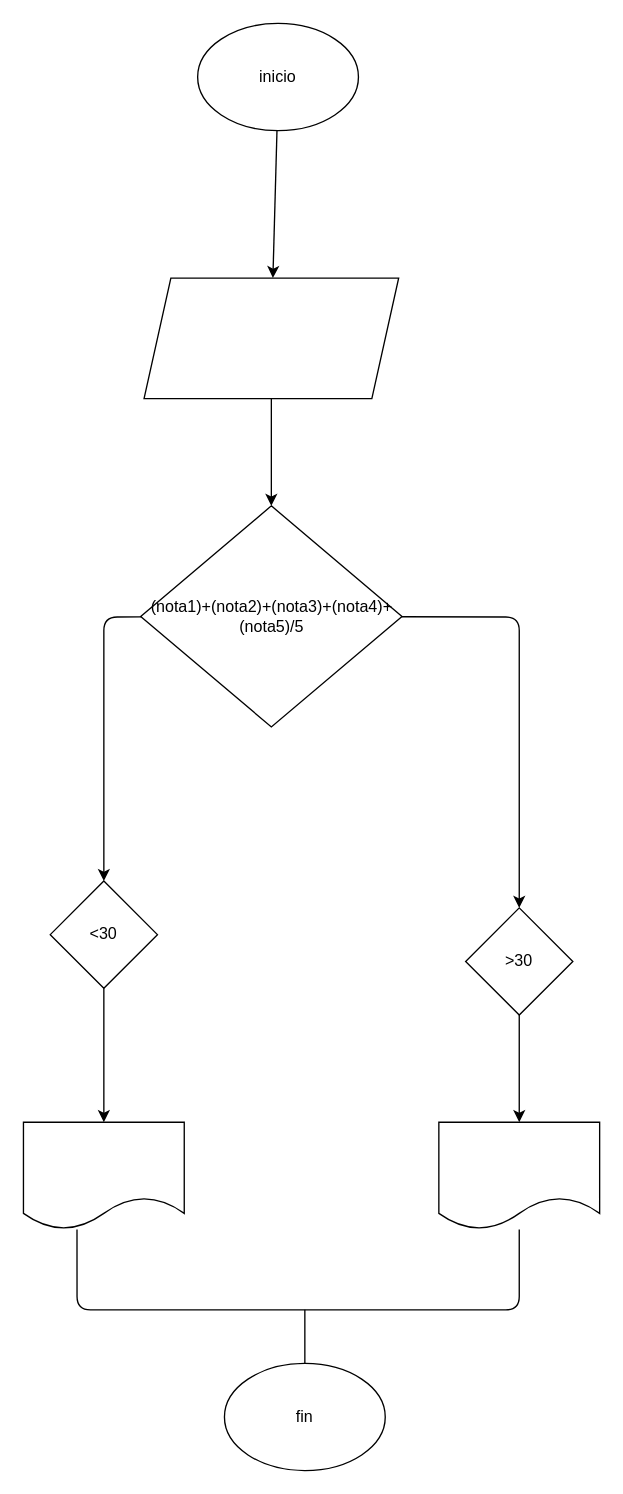
Some shapes in this 623 by 1494 pixel diagram are drawn without their labels. Each missing label, with the centre of its shape:
"nota1,nota2,nota3,nota4,nota5 y codigo del estudiante" belongs at (x=271, y=338).
"paso, felicidades" belongs at (x=103, y=1175).
"perdio la materia" belongs at (x=519, y=1175).
